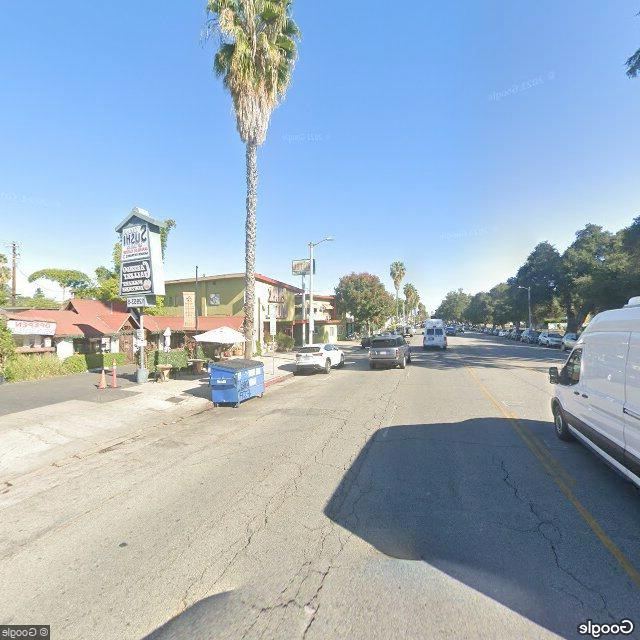crack: (173, 410, 389, 639), (496, 453, 618, 617), (376, 431, 588, 457)
